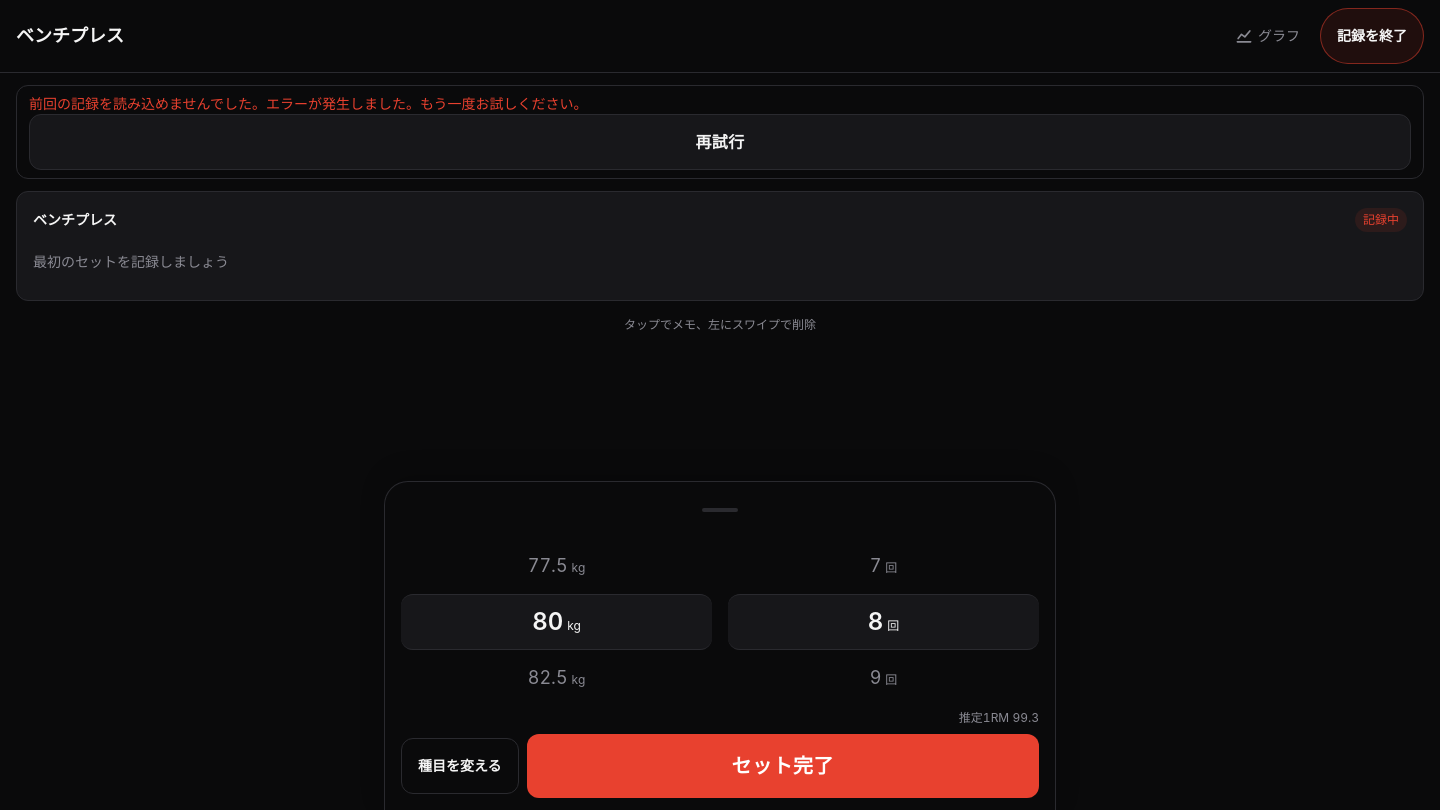
LogPage › keeps set recording available when previous-workout loading fails
(page scrolled)
Expected: the message shows "前回の記録を読み込めませんでした", [29,95,266,112]
Click the button "セット完了": click(783, 766) [527,734,1039,798]
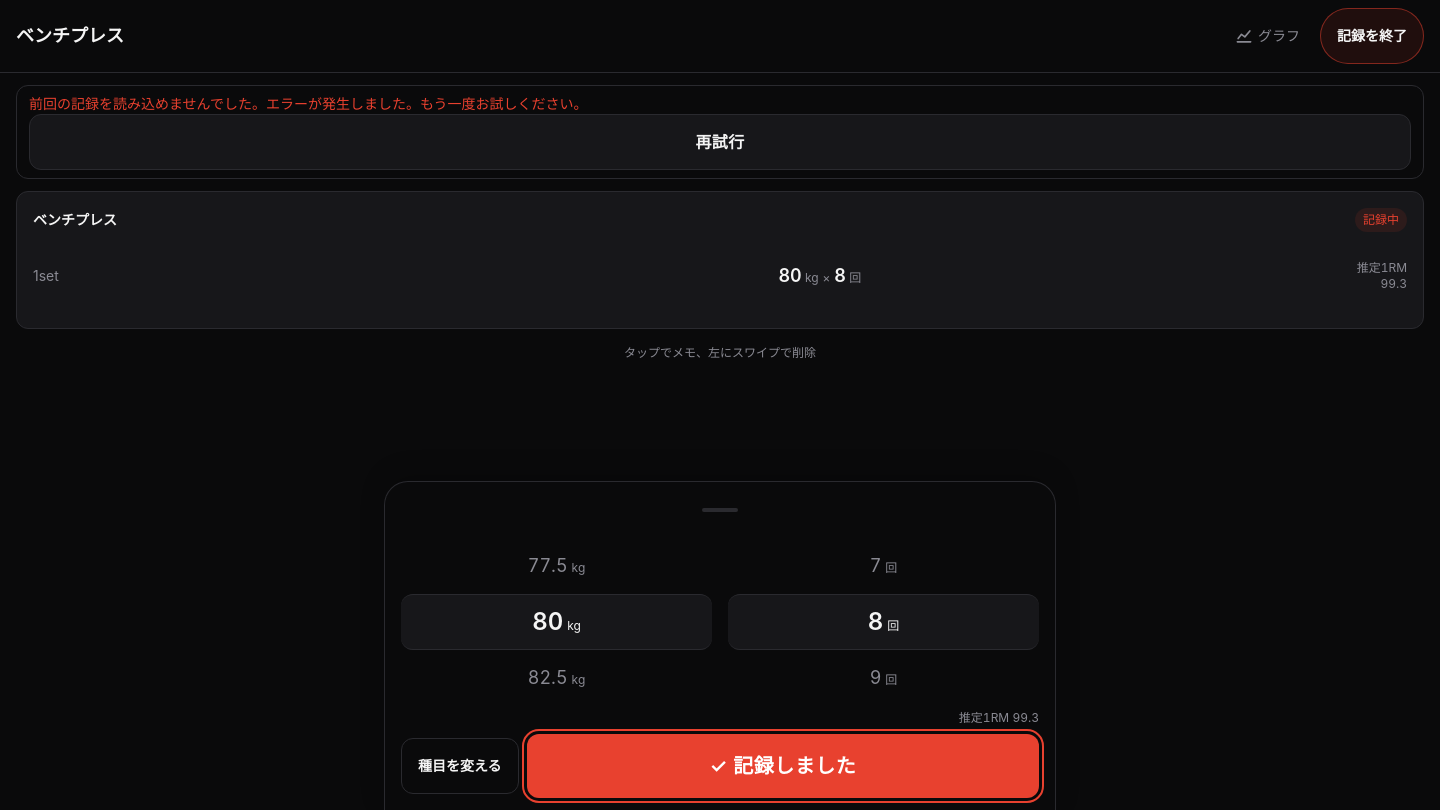
Click the button "再試行": click(720, 142) [29,114,1411,170]
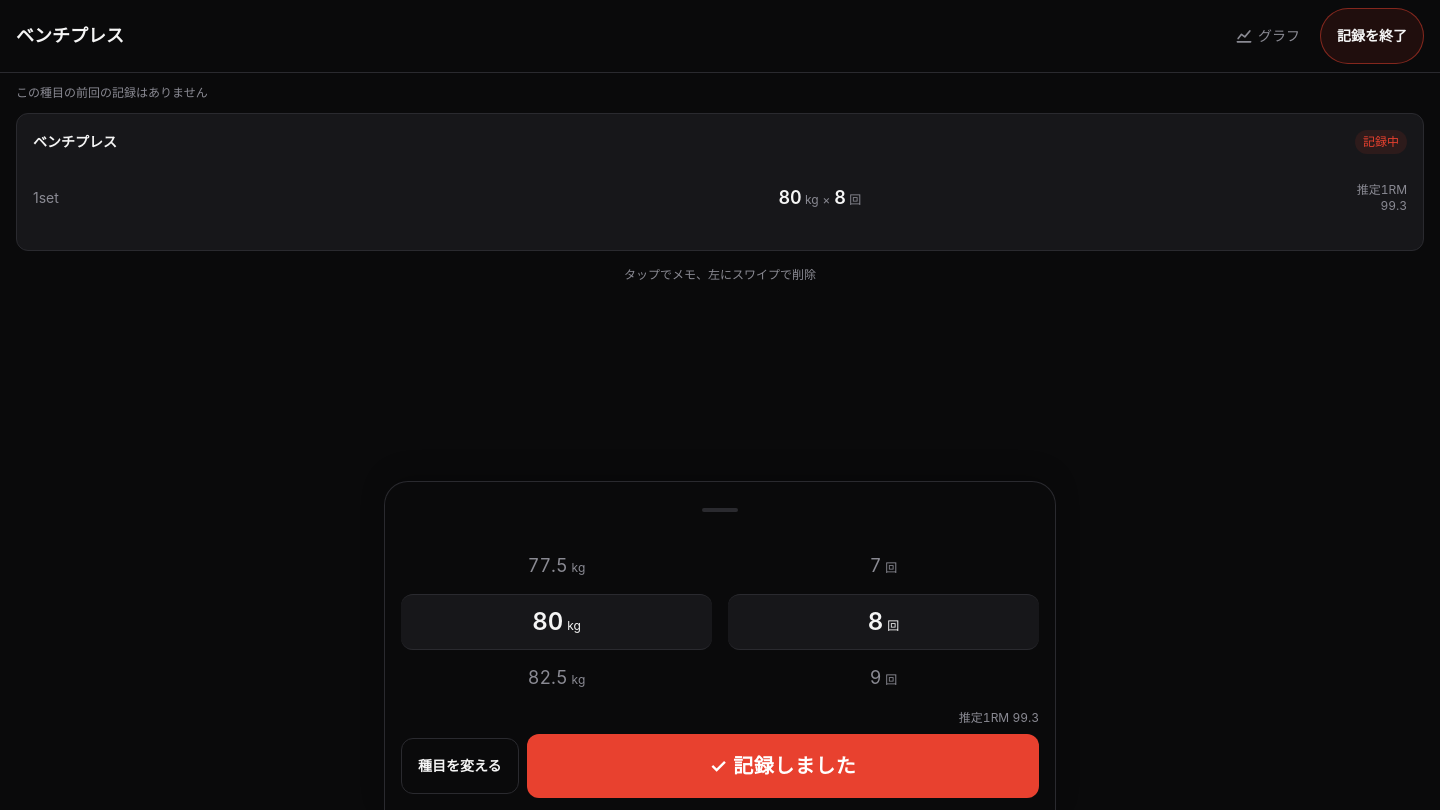
Result: the text "この種目の前回の記録はありません" is shown at [16,85,208,100]
